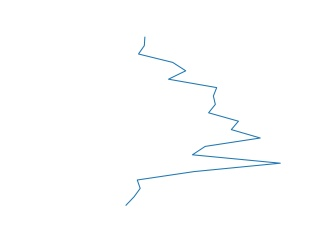floodSwamp: (121, 35, 283, 207)
